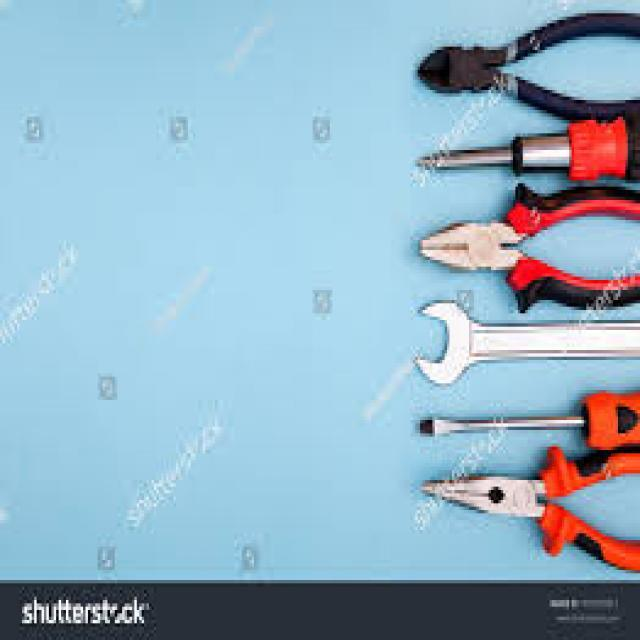screwdriver: (408, 382, 640, 462), (405, 110, 640, 180)
